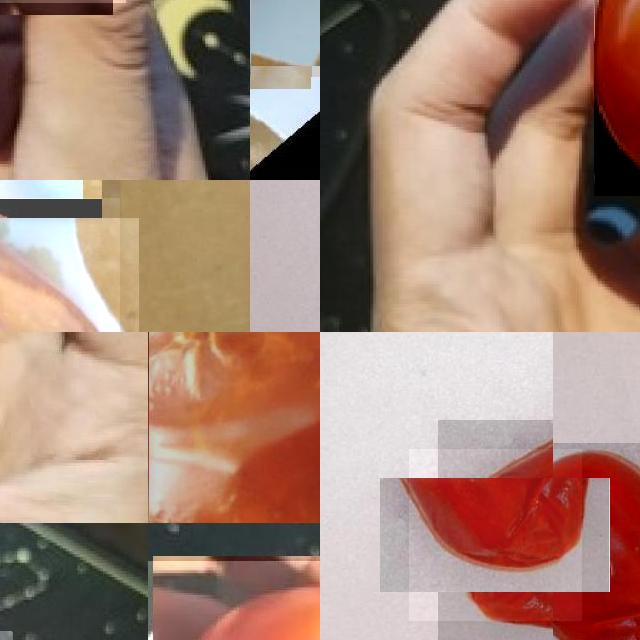1: (409, 449, 582, 621), (553, 442, 640, 640)
Rotten Tomato: (148, 332, 320, 523), (250, 0, 320, 77)
